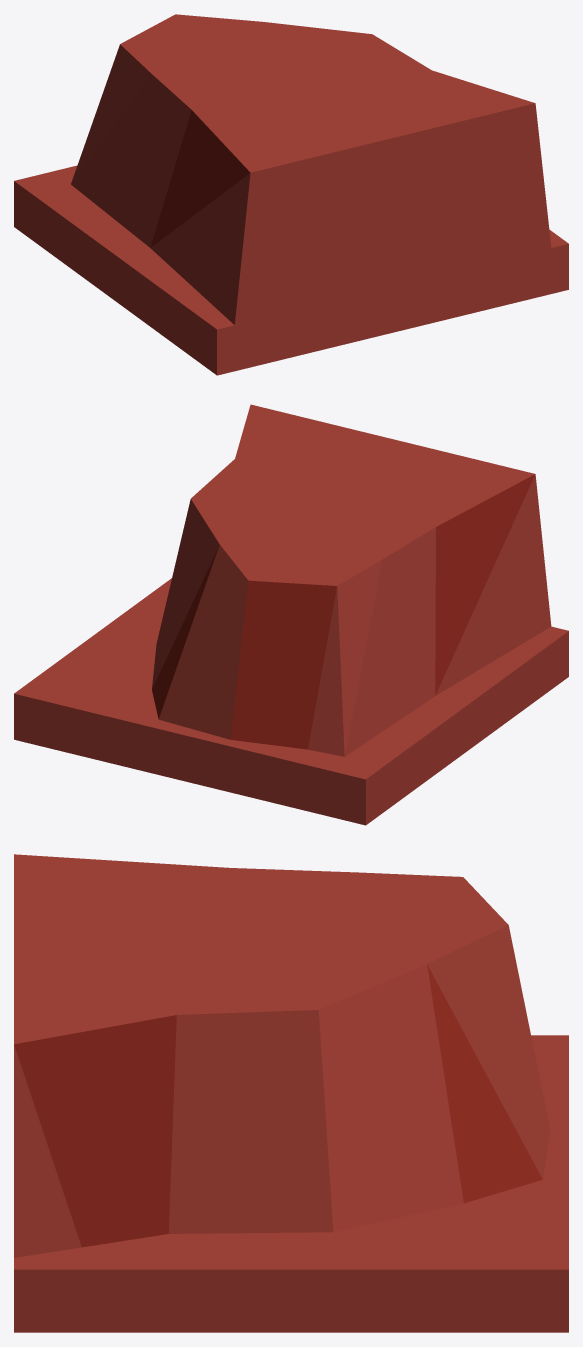
Rendered from Field_11.fbx.
3 renders of one model, top to bottom at view 1: azimuth 30°, elevation 25°; view 2: azimuth 150°, elevation 25°; view 3: azimuth 270°, elevation 25°, orthographic. The views are drawn at different scales.
Parts seen in each view (by area): view 1: Plane.012; view 2: Plane.012; view 3: Plane.012.
Part boxes in pixels (<box>): Plane.012: <box>14,14,568,375</box>; Plane.012: <box>14,404,568,825</box>; Plane.012: <box>14,854,568,1332</box>.
Bounding box in the file's own units: 400 × 212 × 400.
